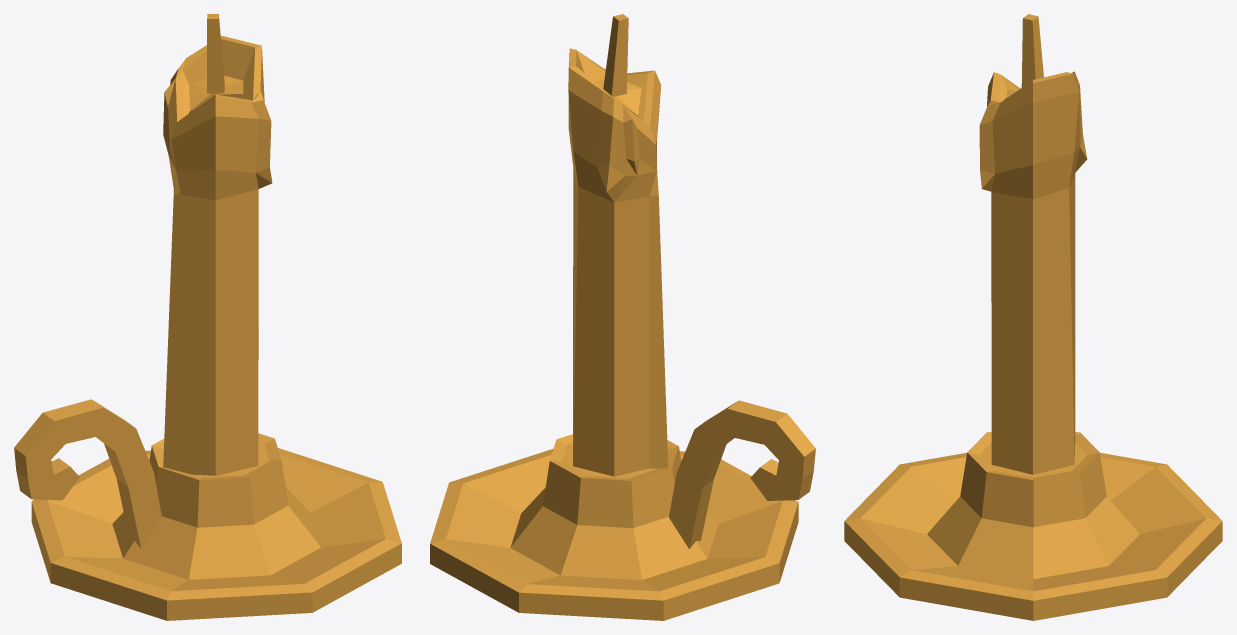
The model's file is candle-finger-holder-unlit.fbx.
3 renders of one model, left to right at view 1: azimuth 30°, elevation 25°; view 2: azimuth 150°, elevation 25°; view 3: azimuth 270°, elevation 25°, orthographic.
Parts seen in each view (by area): view 1: candle-finger-holder-unlit; view 2: candle-finger-holder-unlit; view 3: candle-finger-holder-unlit.
Boxes of the visible parts, <box> form: candle-finger-holder-unlit: <box>14,14,401,620</box>; candle-finger-holder-unlit: <box>430,14,815,620</box>; candle-finger-holder-unlit: <box>844,14,1222,620</box>.
Size of the model in its own units: 0.1535 by 0.2136 by 0.1404.
